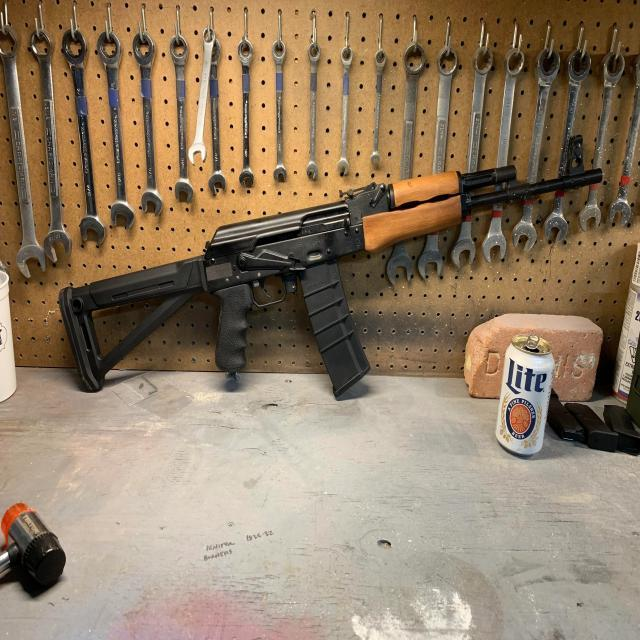weapon: (60, 166, 603, 399)
